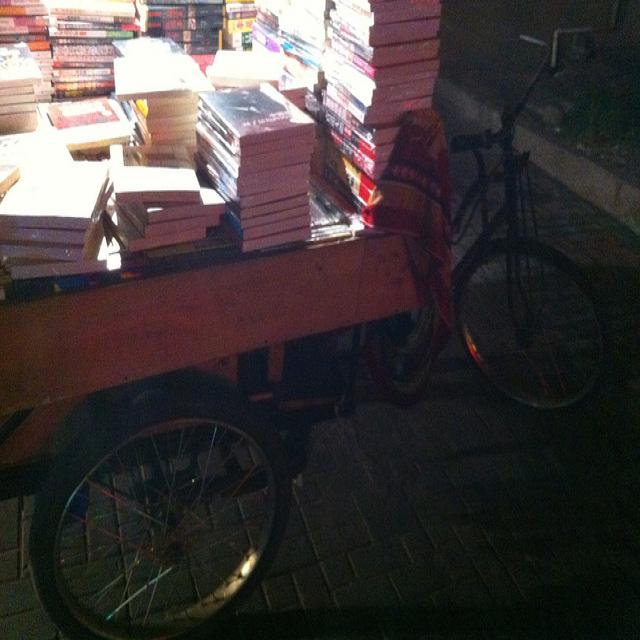Bicycle: (19, 32, 640, 640)
